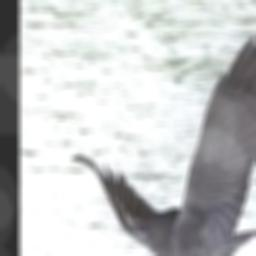Crow: (70, 31, 256, 256)
